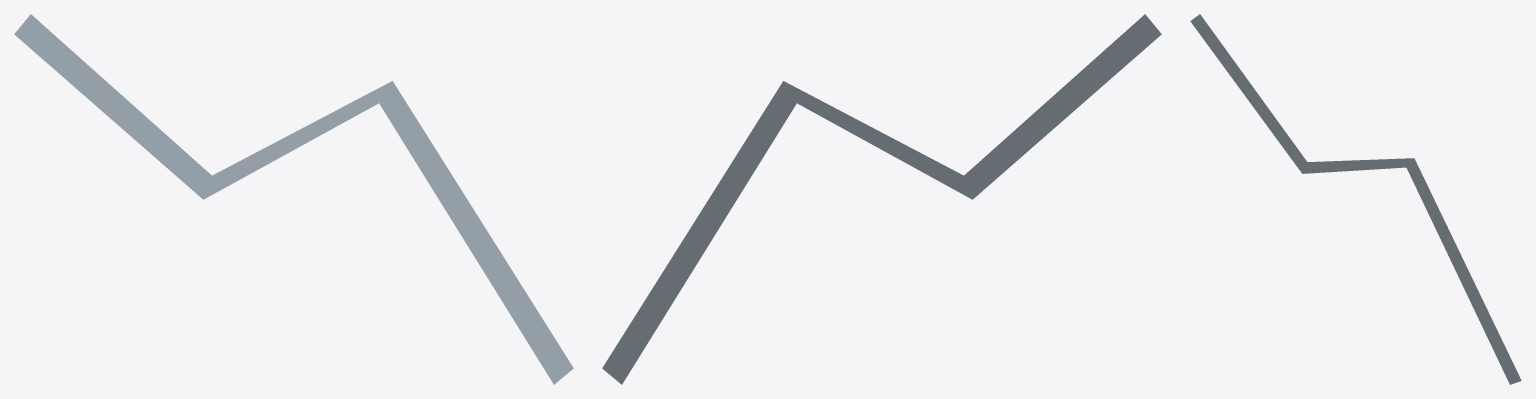
The model's file is 2065_LightningCage_Overall_BoltBranch4.fbx.
3 renders of one model, left to right at view 1: azimuth 30°, elevation 25°; view 2: azimuth 150°, elevation 25°; view 3: azimuth 330°, elevation 25°, orthographic. The views are drawn at different scales.
Parts seen in each view (by area): view 1: PART_BoltBranch4; view 2: PART_BoltBranch4; view 3: PART_BoltBranch4.
Boxes of the visible parts, box(x1,y1,x2,y2) form: PART_BoltBranch4: box(14, 14, 573, 384); PART_BoltBranch4: box(602, 14, 1161, 384); PART_BoltBranch4: box(1190, 14, 1521, 384).
Bounding box in the file's own units: 78.56 × 66.88 × 1.09e-05.
